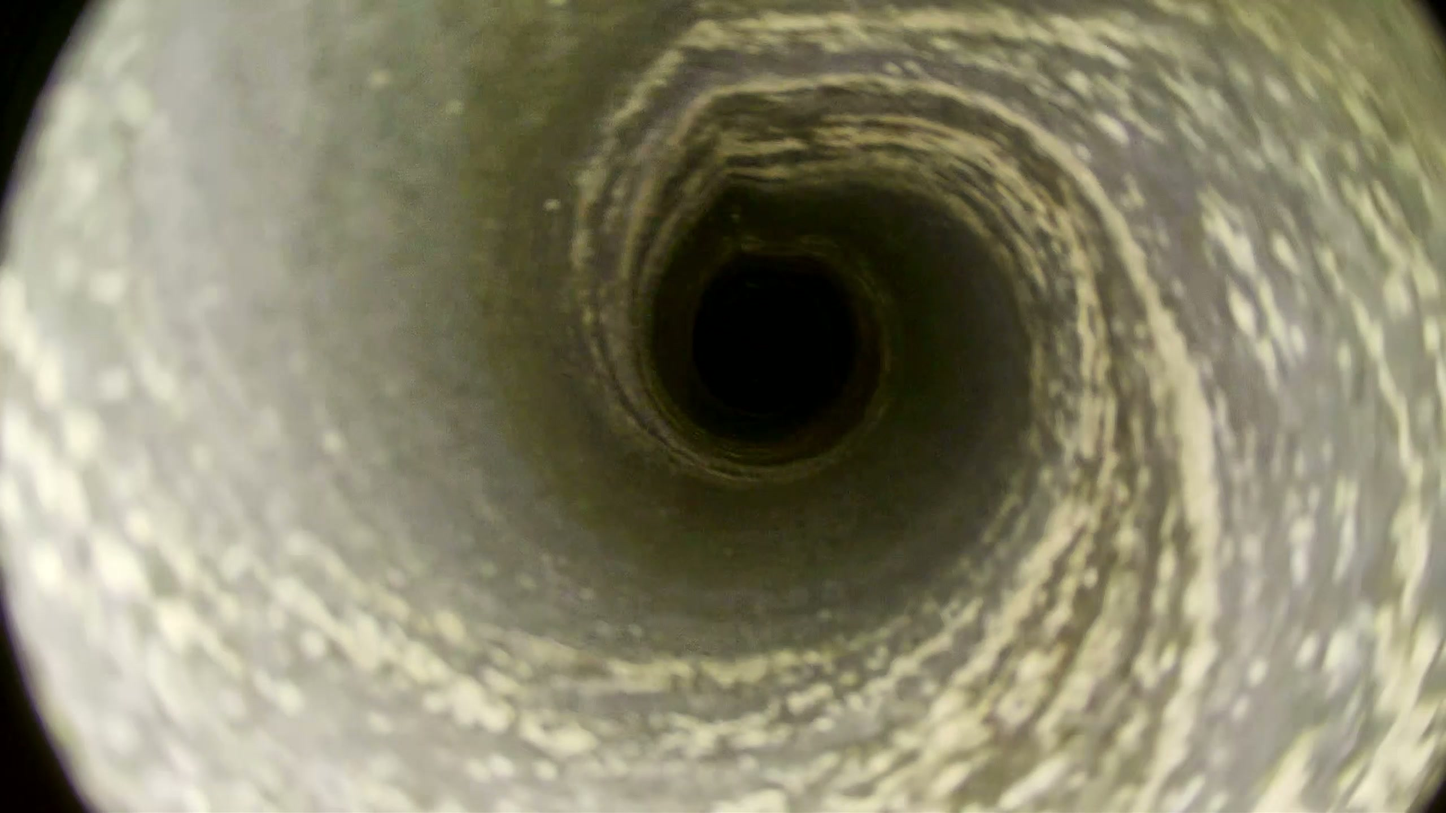hole: (694, 266, 852, 413)
